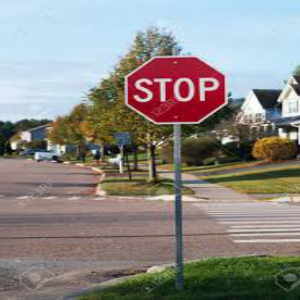STOP_SIGN: (125, 54, 227, 124)
